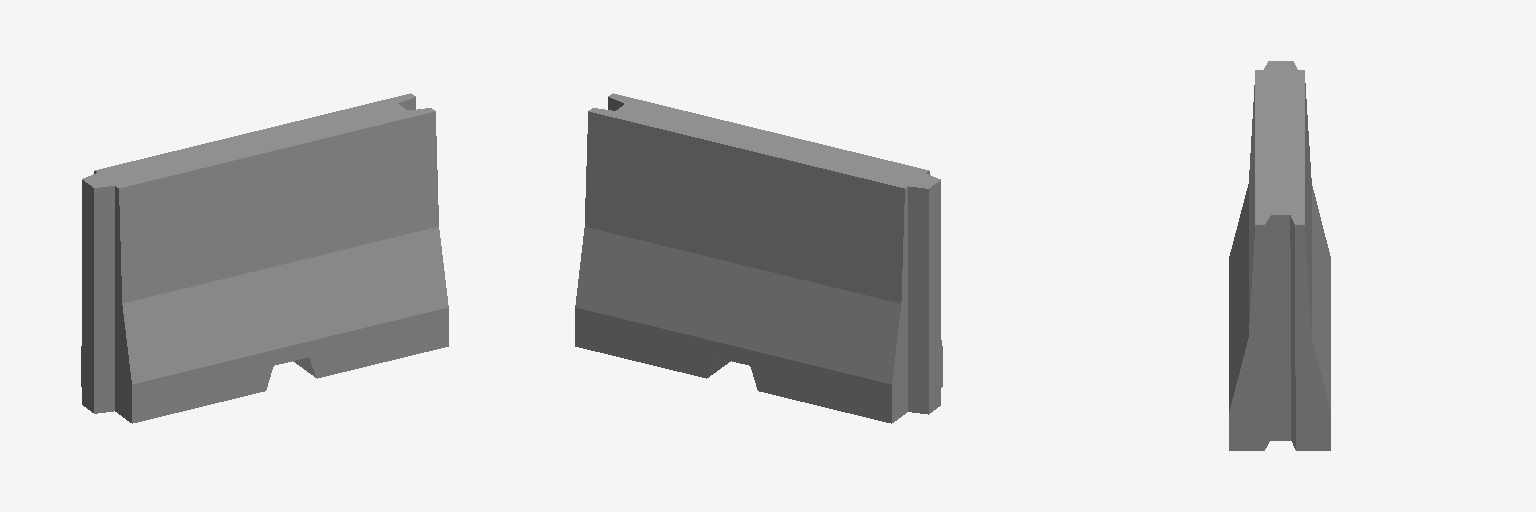
Rendered from concrete_roadblock.obj.
3 views of the same model, side by side, from view 1: azimuth 30°, elevation 25°; view 2: azimuth 150°, elevation 25°; view 3: azimuth 270°, elevation 25° (orthographic).
Size of the model in its own units: 2.93 by 1.89 by 0.7678.